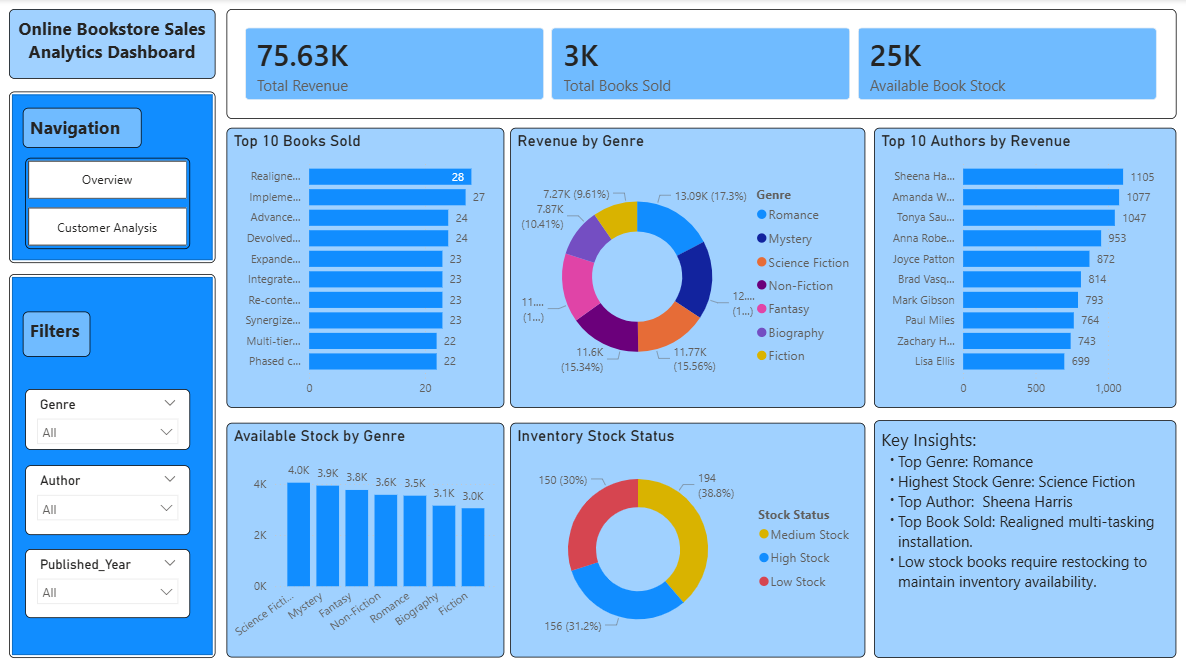

The page's visual inventory and layout, read from the dashboard file:
{"tool":"powerbi","page":{"name":"Inventory & Stock Analysis","canvas":[1280,720],"ordinal":2},"visuals":[{"type":"shape","box":[10.8,296.2,222.1,413.3],"z":0},{"type":"shape","box":[10.8,99.6,222.1,184.4],"z":1000},{"type":"textbox","box":[10.8,10.8,222.1,75.4],"z":2000},{"type":"cardVisual","fields":{"Data":["Orders.Total Revenue","Books.Total Books Sold","Books.Available Book Stock"]},"box":[245,10.8,1023.1,118.5],"z":3000},{"type":"slicer","fields":{"Values":["Books.Genre"]},"box":[28.3,420,177.7,66],"z":4000},{"type":"slicer","fields":{"Values":["Books.Author"]},"box":[28.3,502.1,177.7,75.4],"z":5000},{"type":"slicer","fields":{"Values":["Books.Published_Year"]},"box":[28.3,592.3,177.7,74],"z":6000},{"type":"pageNavigator","box":[28.3,171,177.7,98.3],"z":7000},{"type":"donutChart","title":"Revenue by Genre","fields":{"Category":["Books.Genre"],"Y":["Sum(Orders.Total_Amount)"]},"box":[550.6,138.7,382.3,301.6],"z":8000},{"type":"barChart","title":"Top 10 Books Sold","fields":{"Category":["Books.Title"],"Y":["Sum(Orders.Quantity)"]},"box":[245,138.7,298.9,301.6],"z":9000},{"type":"clusteredColumnChart","title":"Available Stock by Genre","fields":{"Category":["Books.Genre"],"Y":["Sum(Books.Stock)"]},"box":[245,456.4,298.9,253.1],"z":10000},{"type":"barChart","title":"Top 10 Authors by Revenue","fields":{"Y":["Sum(Orders.Total_Amount)"],"Category":["Books.Author"]},"box":[942.4,138.7,325.8,301.6],"z":11000},{"type":"textbox","box":[942.4,453.7,325.8,255.8],"z":12000},{"type":"textbox","box":[25.6,336.2,72.6,48.4],"z":13000},{"type":"textbox","box":[25.6,117.1,127.9,43.1],"z":14000},{"type":"donutChart","title":"Inventory Stock Status","fields":{"Category":["Books.Stock Status"],"Y":["CountNonNull(Books.Book_ID)"]},"box":[550.6,456.4,382.3,253.1],"z":16000}]}

Visuals, with their boxes in screenshot pixels (x1, y1, x2, y2), scaled from the page's 1280x720 canvas onto the 1186x667 screenshot:
shape: x1=10 y1=274 x2=216 y2=657
shape: x1=10 y1=92 x2=216 y2=263
textbox: x1=10 y1=10 x2=216 y2=80
cardVisual - Orders.Total Revenue x Books.Total Books Sold: x1=227 y1=10 x2=1175 y2=120
slicer - Books.Genre: x1=26 y1=389 x2=191 y2=450
slicer - Books.Author: x1=26 y1=465 x2=191 y2=535
slicer - Books.Published_Year: x1=26 y1=549 x2=191 y2=617
pageNavigator: x1=26 y1=158 x2=191 y2=249
"Revenue by Genre" donutChart: x1=510 y1=128 x2=864 y2=408
"Top 10 Books Sold" barChart: x1=227 y1=128 x2=504 y2=408
"Available Stock by Genre" clusteredColumnChart: x1=227 y1=423 x2=504 y2=657
"Top 10 Authors by Revenue" barChart: x1=873 y1=128 x2=1175 y2=408
textbox: x1=873 y1=420 x2=1175 y2=657
textbox: x1=24 y1=311 x2=91 y2=356
textbox: x1=24 y1=108 x2=142 y2=148
"Inventory Stock Status" donutChart: x1=510 y1=423 x2=864 y2=657
